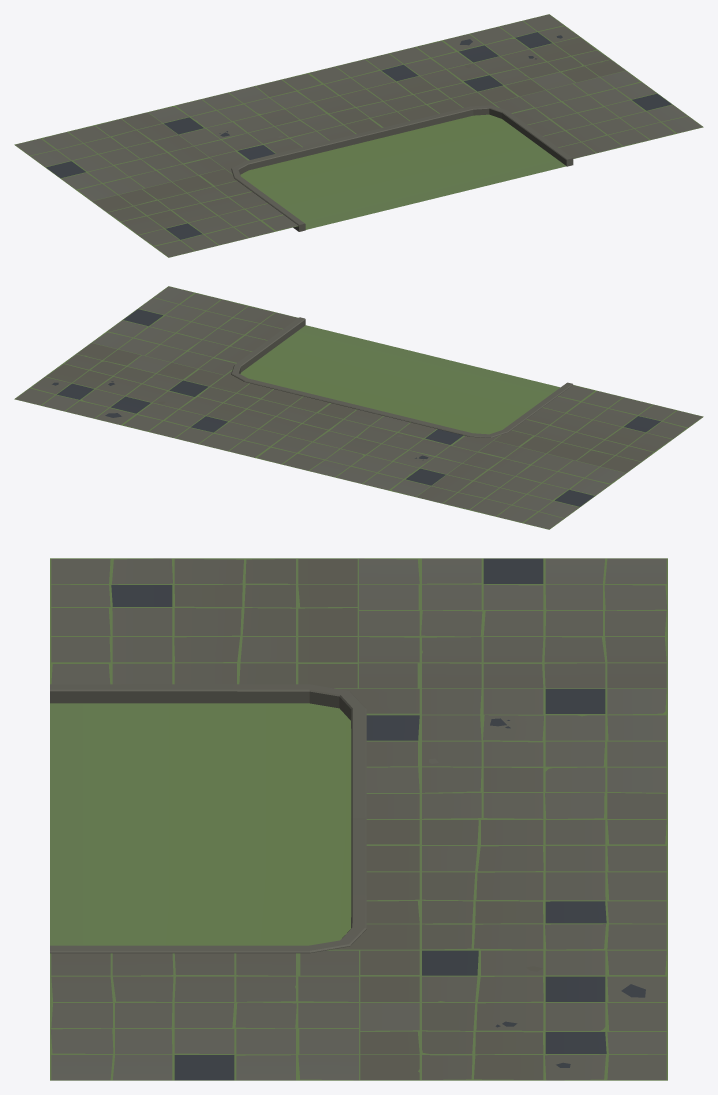
Rendered from Road_30.fbx.
The picture shows the model from 3 angles, top to bottom: view 1: azimuth 30°, elevation 25°; view 2: azimuth 150°, elevation 25°; view 3: azimuth 270°, elevation 25°; orthographic projection. The views are drawn at different scales.
Visible parts, largest first — view 1: Road_30; view 2: Road_30; view 3: Road_30.
Part boxes in pixels (box(x1,y1,x2,y2)): Road_30: box(14, 14, 703, 257); Road_30: box(14, 286, 703, 529); Road_30: box(50, 558, 667, 1080).
Size of the model in its own units: 12 by 0.15 by 6.
